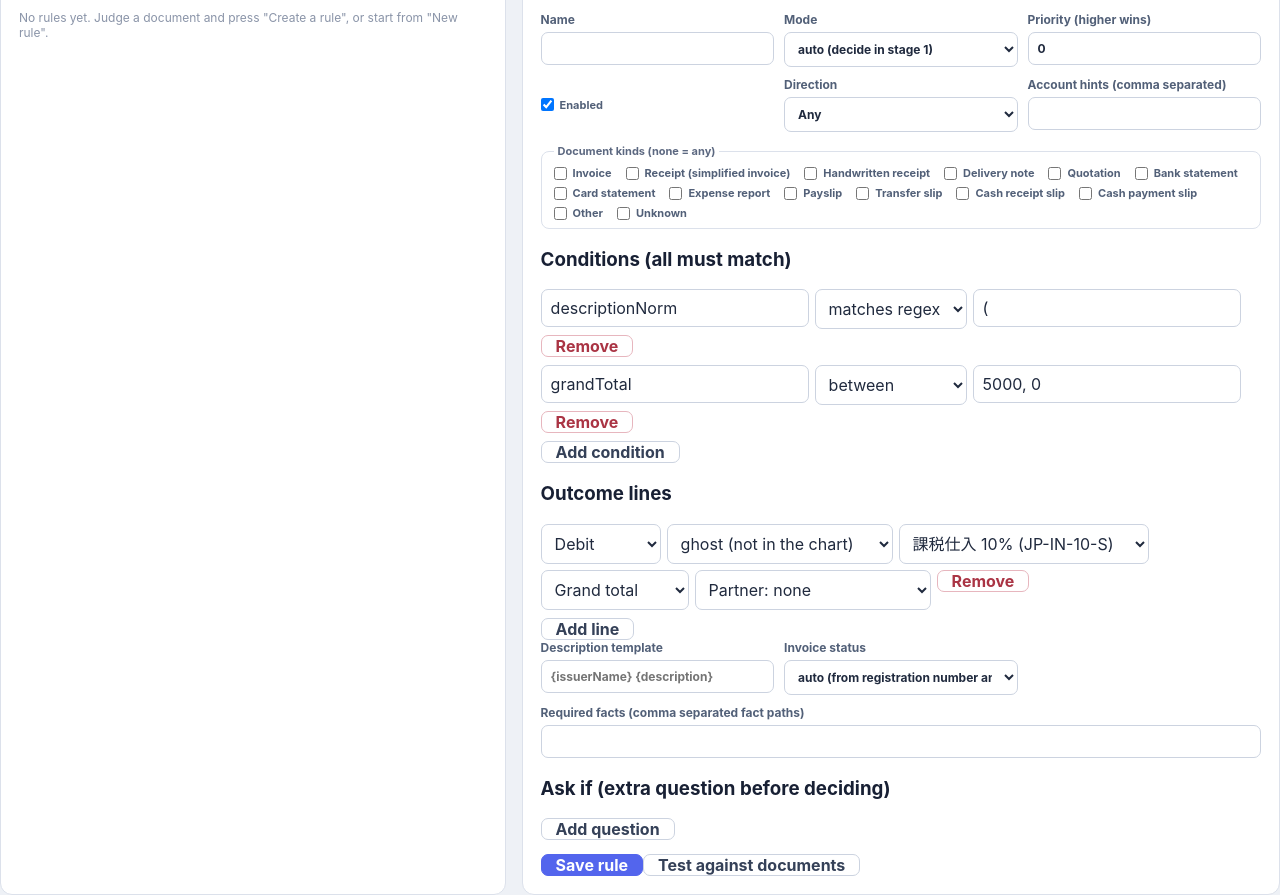
Scenario: RulesTab › 異常: 名前なし・マスタに無い科目・不正な正規表現・between の片側だけ・貸方行なしを欄の下に指摘して保存しない
This screenshot has width=1280, height=895.
(page scrolled)
Click the button "Save rule". click: (592, 865)
box: [541, 854, 643, 876]
(page scrolled)
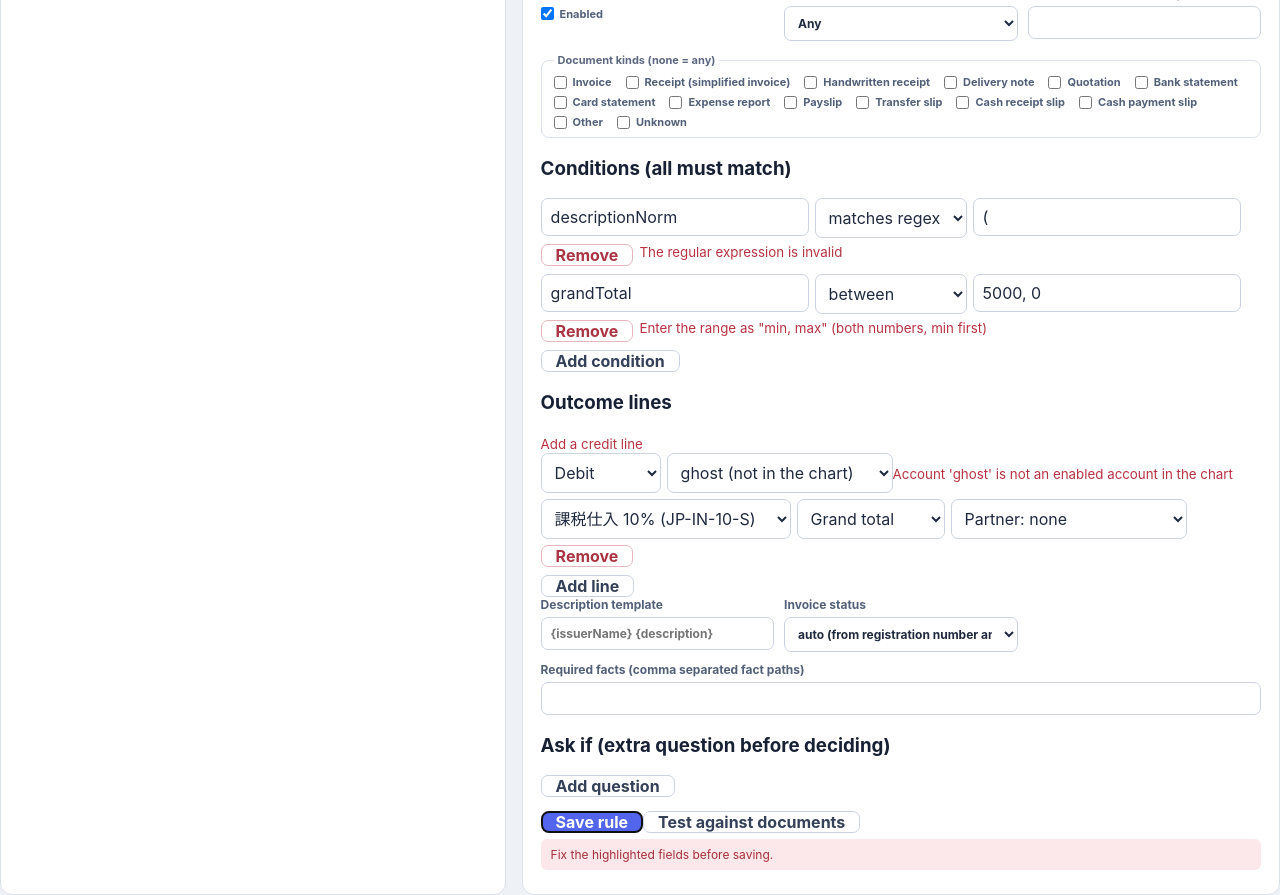
Check: the text "The regular expression is invalid" is shown, box [639, 244, 842, 260]
Check: the text "Enter the range as \"min, max\" (both numbers, min first)" is shown, box [639, 320, 987, 336]
Check: the text "Account 'ghost' is not an enabled account in the chart" is shown, box [893, 466, 1233, 482]
